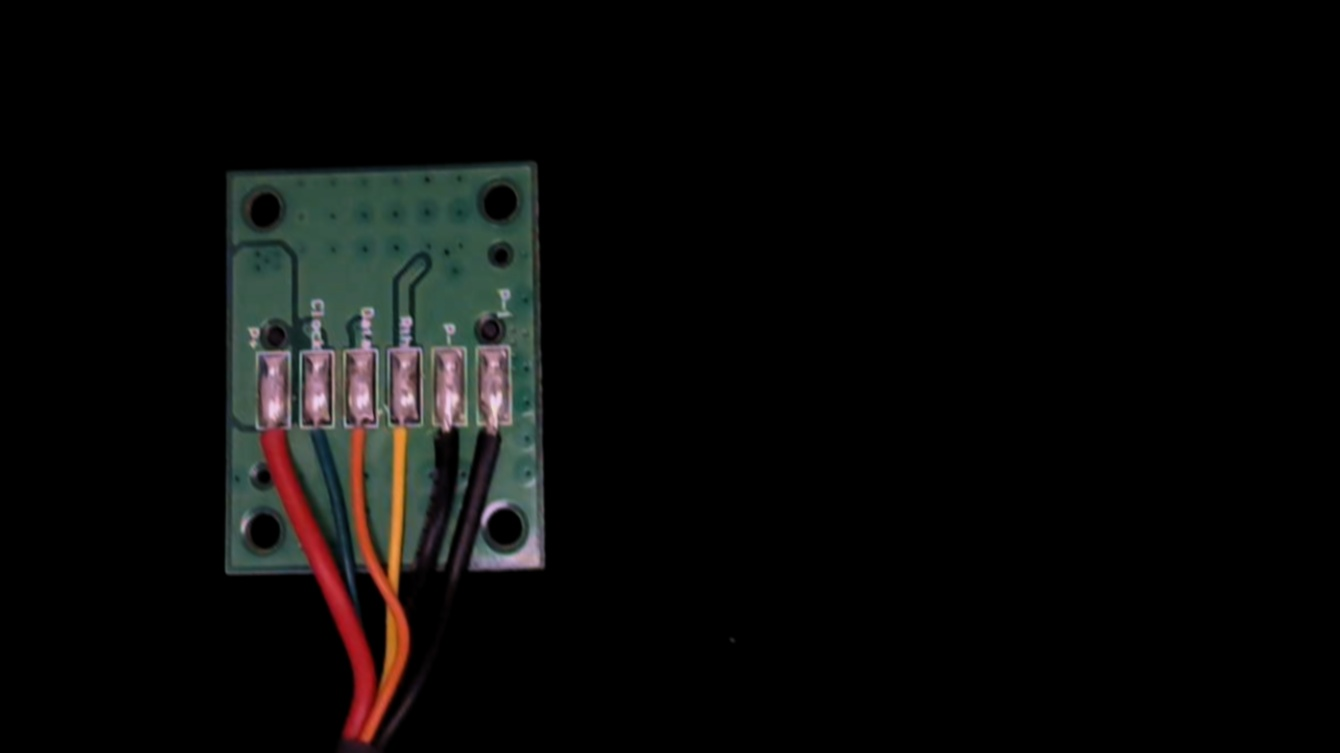Black: (430, 403, 465, 485)
Black1: (477, 404, 515, 487)
Green: (297, 400, 332, 478)
Orange: (341, 402, 375, 478)
Red: (251, 402, 291, 488)
Yellow: (388, 403, 419, 488)
